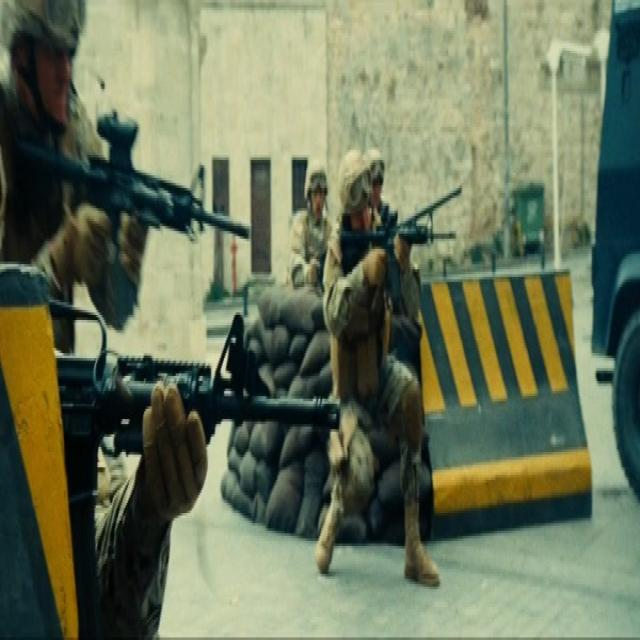rifle: (53, 304, 349, 435), (19, 118, 255, 253), (340, 223, 461, 253)
